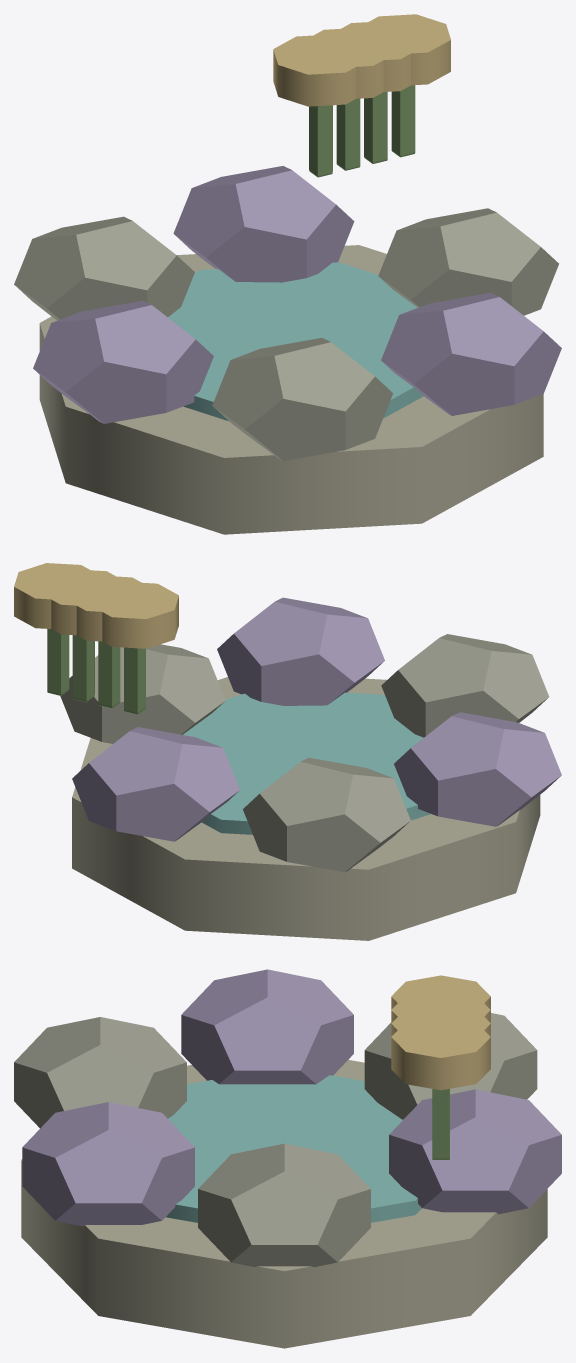
File: riverstones-2.glb
The picture shows the model from 3 angles, top to bottom: view 1: azimuth 30°, elevation 25°; view 2: azimuth 150°, elevation 25°; view 3: azimuth 270°, elevation 25°; orthographic projection. The views are drawn at different scales.
Parts seen in each view (by area): view 1: riverstones-2-0; view 2: riverstones-2-0; view 3: riverstones-2-0.
Boxes of the visible parts, bbox=[...] form: riverstones-2-0: bbox=[14, 14, 561, 534]; riverstones-2-0: bbox=[14, 563, 561, 940]; riverstones-2-0: bbox=[14, 969, 561, 1348].
Size of the model in its own units: 0.8219 by 0.455 by 0.77.
